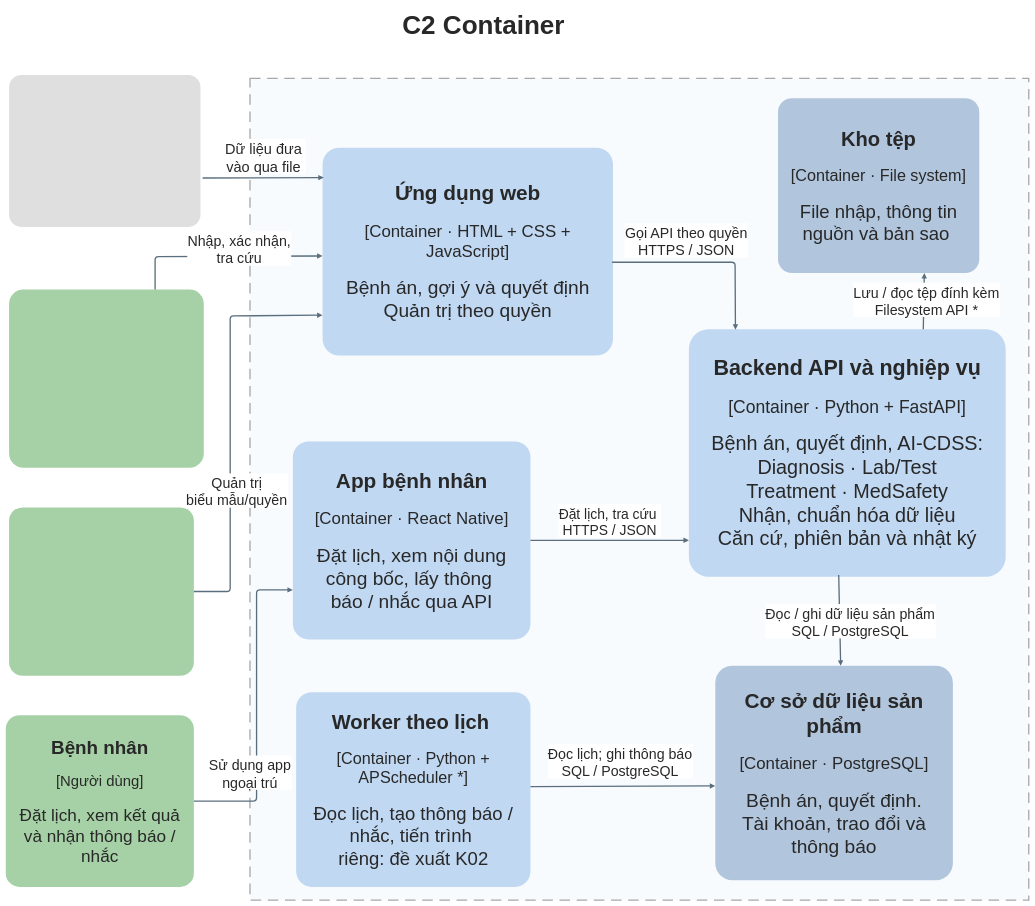
This 1035x906 diagram has some shape labels left out. Each missing label, with the box of its shape:
Admin [Người dùng theo quyền] Tài khoản, quyền, thiết lập và theo dõi vận hành: (9, 507, 194, 676)
Bác [Người dùng theo quyền] Bác sĩ nhập dữ liệu và xác nhận chuyên môn: (9, 289, 204, 468)
HIS [Hệ thống ngoài] Dữ liệu bệnh án dữ liệu khám: (9, 75, 200, 227)
